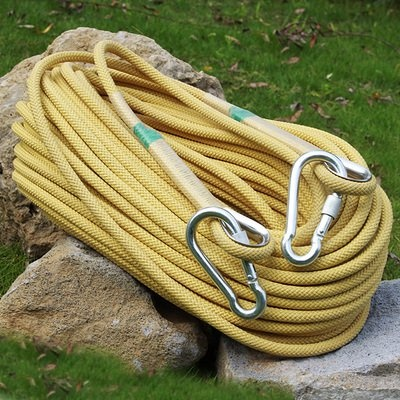9/可回收垃圾/绳子: (10, 40, 395, 359)
